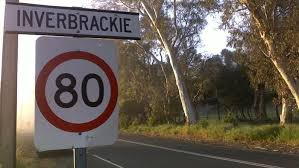Speed_limit_80km: (36, 51, 119, 131)
